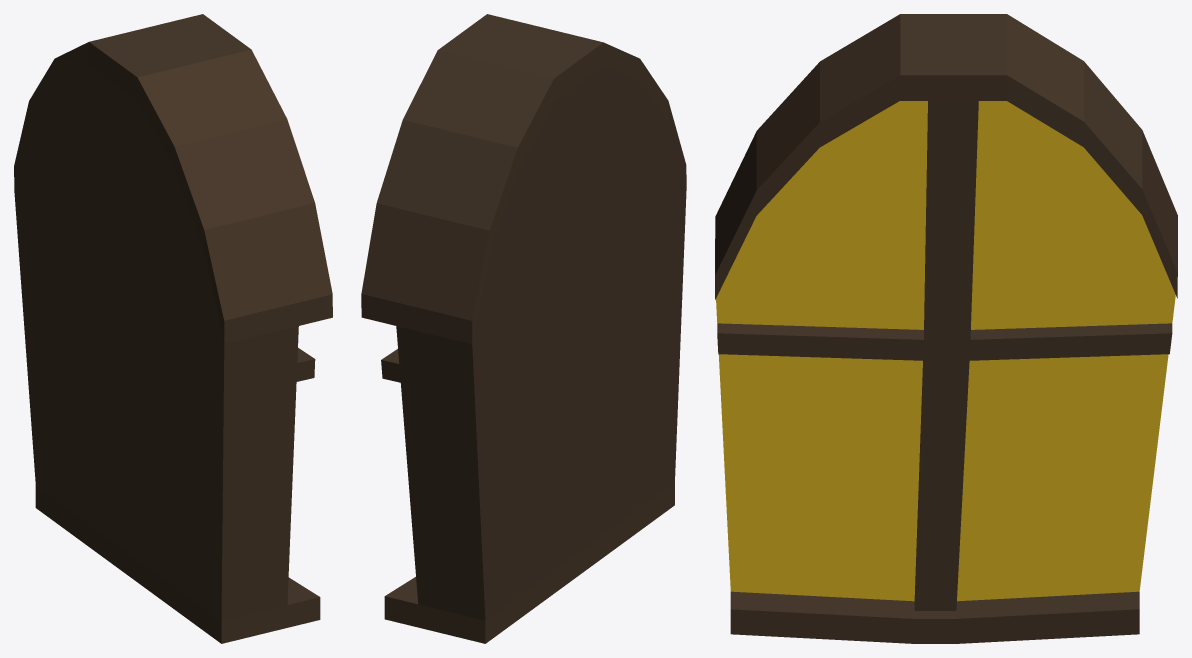
Rendered from RoundedWindow.fbx.
The picture shows the model from 3 angles, left to right: view 1: azimuth 30°, elevation 25°; view 2: azimuth 150°, elevation 25°; view 3: azimuth 270°, elevation 25°; orthographic projection. The views are drawn at different scales.
Visible parts, largest first — view 1: Cube.170; view 2: Cube.170; view 3: Cube.170.
Part boxes in pixels (left/top/right/bottom): Cube.170: left=14, top=14, right=332, bottom=643; Cube.170: left=361, top=14, right=686, bottom=643; Cube.170: left=715, top=14, right=1177, bottom=643.
Size of the model in its own units: 12.45 by 54.29 by 39.73.
